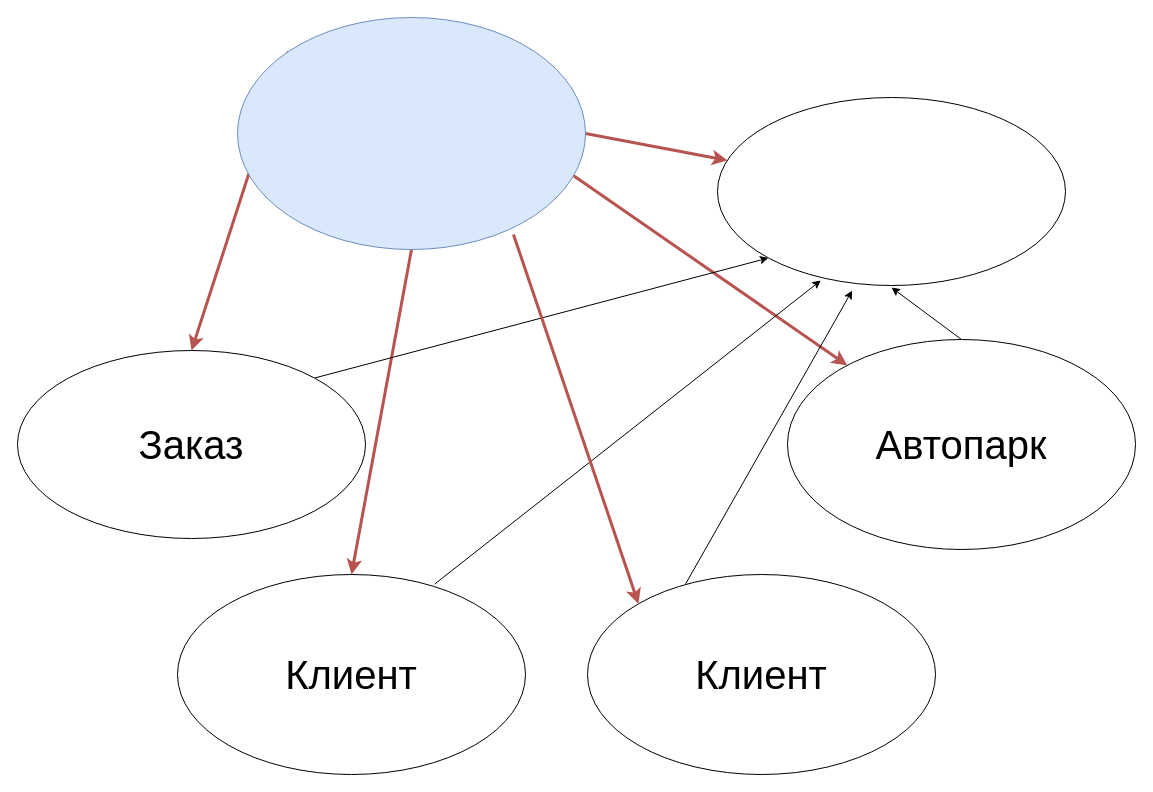
Some shapes in this 1153 by 792 pixel diagram are drawn without their labels. Here are the shapes that lost their labels. From the top down, the centre of each, then its label:
[411,133]: Аренда автомобилей в Молдове
[891,191]: Автомобиль
